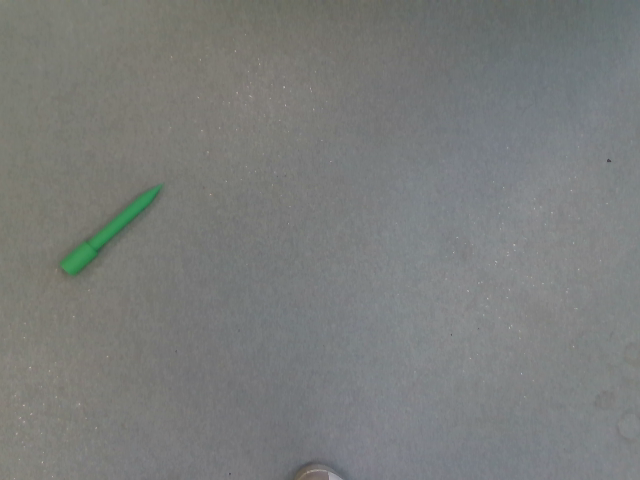Probe: (54, 175, 171, 282)
